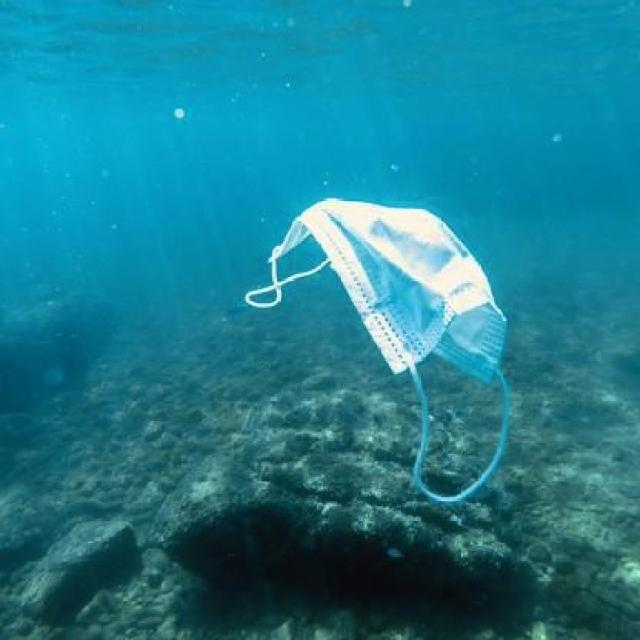Mask: (244, 193, 513, 501)
